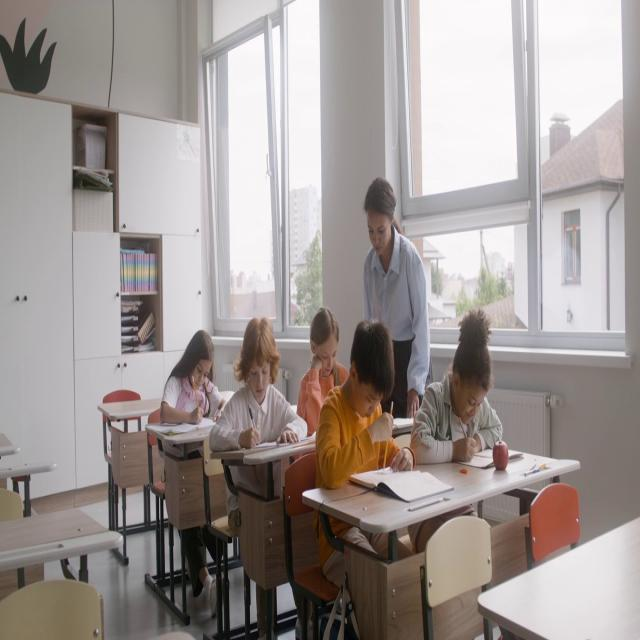reading: (298, 307, 346, 444)
turning: (412, 310, 504, 466)
writing: (311, 320, 416, 640), (210, 319, 304, 467), (160, 330, 224, 442)
